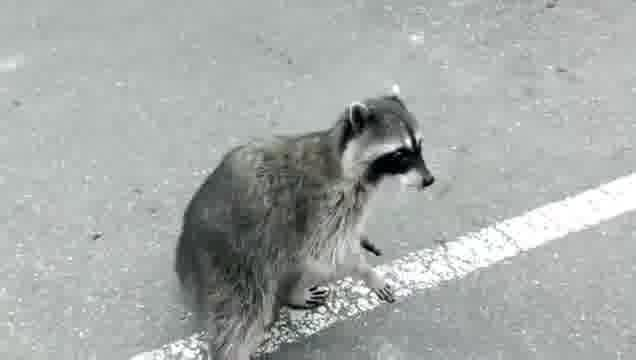raccoon: (173, 84, 437, 360)
